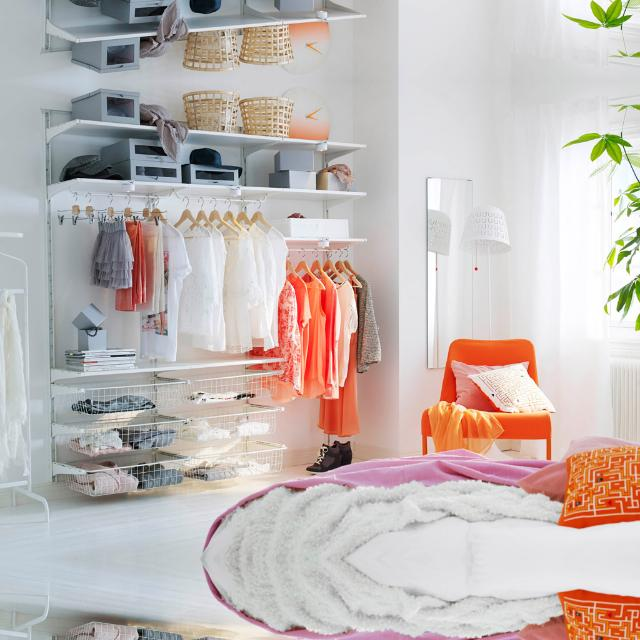obstacle: (212, 454, 640, 558), (212, 558, 640, 640), (420, 336, 560, 460)
